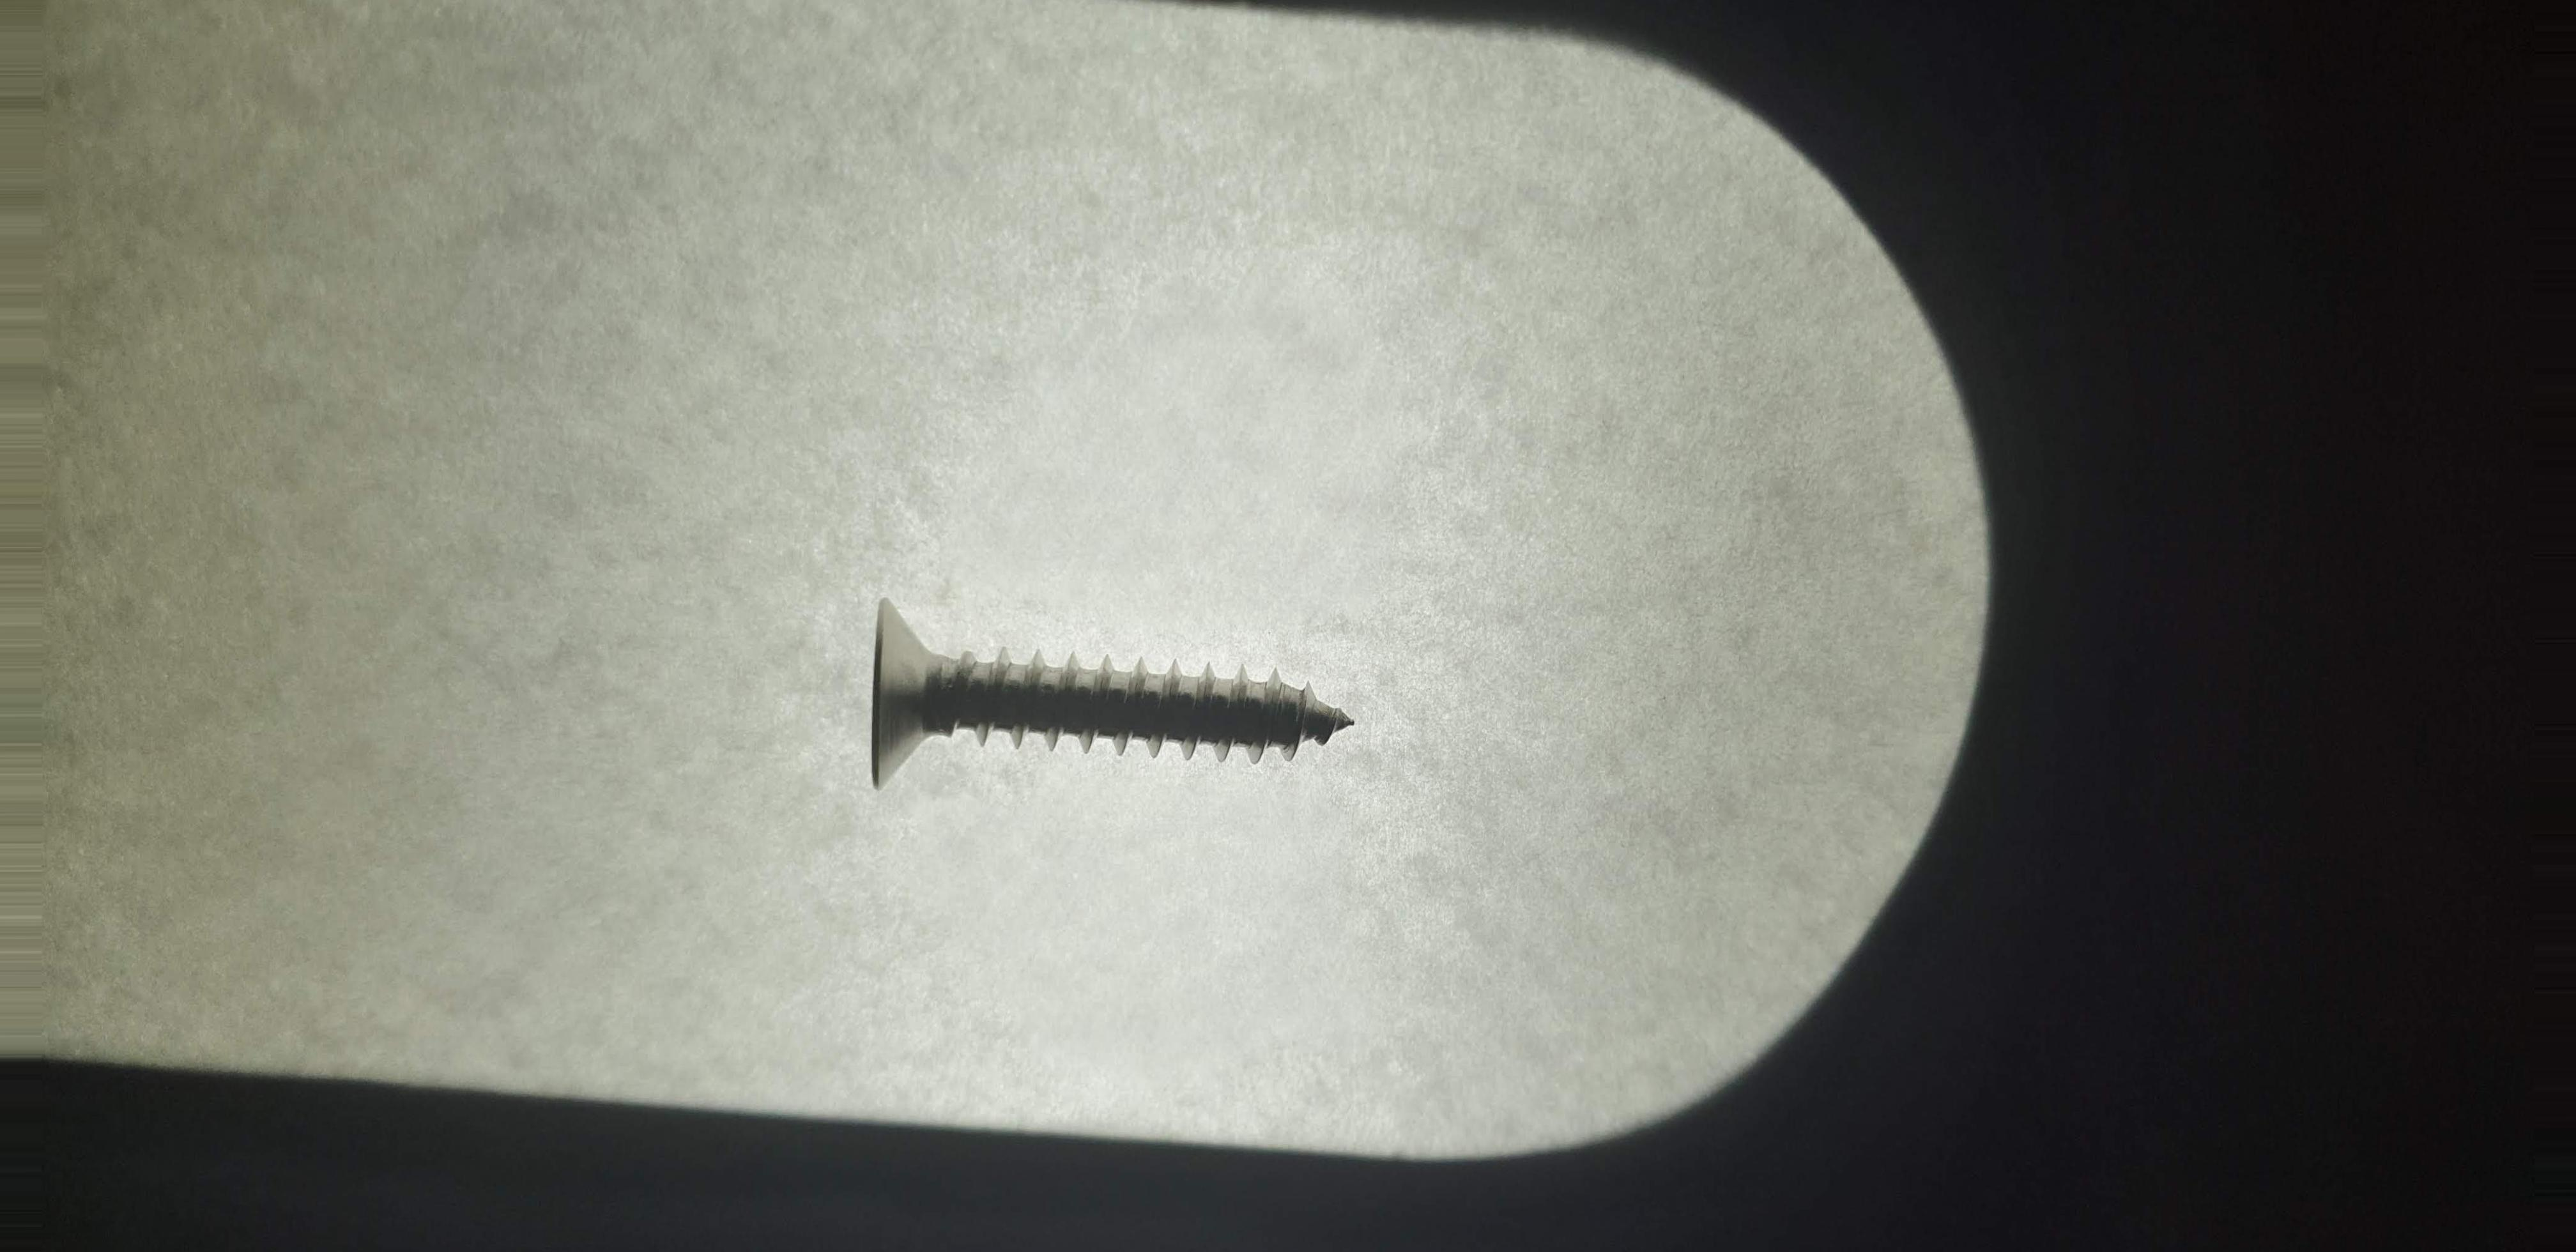S004: (812, 545, 1429, 848)
